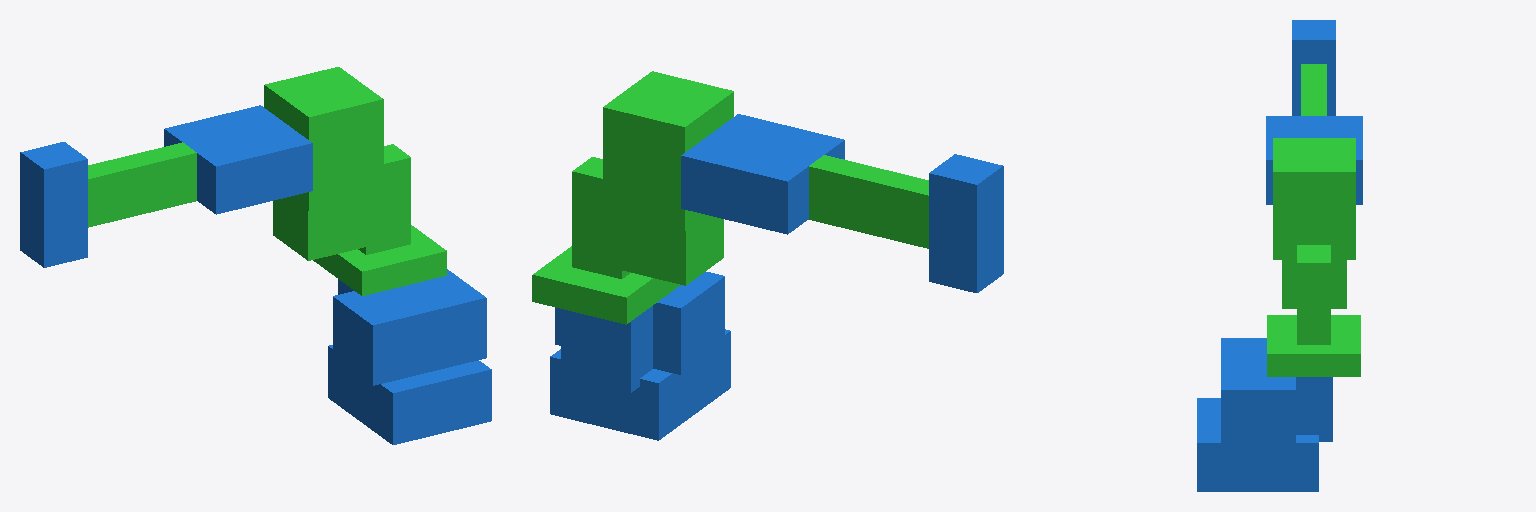
The robot description file, URDF, robot "robot":
<robot name = "robot">
    <link name="Link0">
        <inertial>
            <origin xyz="0 0 2" rpy="0 0 0"/>
            <mass value="0.21343461435300348" />
            <inertia ixx="100" ixy="0" ixz="0" iyy="100" iyz="0" izz="100" />
        </inertial>
        <visual>
            <origin xyz="0 0 2" rpy="0 0 0"/>
            <geometry>
                <box size="0.47286389225356085 0.4443950205047229 1.0156861187707538" />
            </geometry>
            <material name="No Sensor">
                <color rgba="0.184 0.553 0.933 1.0"/>
            </material>
        </visual>
        <collision>
            <origin xyz="0 0 2" rpy="0 0 0"/>
            <geometry>
                <box size="0.47286389225356085 0.4443950205047229 1.0156861187707538" />
            </geometry>
        </collision>
    </link>
    <joint name="Link0_Link1" type="revolute">
       <parent link="Link0"/>
       <child  link="Link1"/>
       <origin rpy="0 0 0" xyz="0.23643194612678042 0 2" />
       <axis xyz="1 0 0"/>
       <limit effort="0.0" lower="-3.14159" upper="3.14159" velocity="0.0"/>
    </joint>
    <link name="Link1">
        <inertial>
            <origin xyz="0.6143469094875227 0 0" rpy="0 0 0"/>
            <mass value="0.1630009619324722" />
            <inertia ixx="100" ixy="0" ixz="0" iyy="100" iyz="0" izz="100" />
        </inertial>
        <visual>
            <origin xyz="0.6143469094875227 0 0" rpy="0 0 0"/>
            <geometry>
                <box size="1.2286938189750454 0.2659099615925625 0.49889814198257976" />
            </geometry>
            <material name="Sensor">
                <color rgba="0.239 0.875 0.282 1.0"/>
            </material>
        </visual>
        <collision>
            <origin xyz="0.6143469094875227 0 0" rpy="0 0 0"/>
            <geometry>
                <box size="1.2286938189750454 0.2659099615925625 0.49889814198257976" />
            </geometry>
        </collision>
    </link>
    <joint name="Link1_Link2" type="revolute">
       <parent link="Link1"/>
       <child  link="Link2"/>
       <origin rpy="0 0 0" xyz="1.2286938189750454 0.0 0.0" />
       <axis xyz="0 1 0"/>
       <limit effort="0.0" lower="-3.14159" upper="3.14159" velocity="0.0"/>
    </joint>
    <link name="Link2">
        <inertial>
            <origin xyz="0.521156435885374 0.0 0.0" rpy="0 0 0"/>
            <mass value="0.5010257923422422" />
            <inertia ixx="100" ixy="0" ixz="0" iyy="100" iyz="0" izz="100" />
        </inertial>
        <visual>
            <origin xyz="0.521156435885374 0.0 0.0" rpy="0 0 0"/>
            <geometry>
                <box size="1.042312871770748 0.9691652977533548 0.4959799577394348" />
            </geometry>
            <material name="No Sensor">
                <color rgba="0.184 0.553 0.933 1.0"/>
            </material>
        </visual>
        <collision>
            <origin xyz="0.521156435885374 0.0 0.0" rpy="0 0 0"/>
            <geometry>
                <box size="1.042312871770748 0.9691652977533548 0.4959799577394348" />
            </geometry>
        </collision>
    </link>
    <joint name="Link2_Link3" type="revolute">
       <parent link="Link2"/>
       <child  link="Link3"/>
       <origin rpy="0 0 0" xyz="1.042312871770748 0.0 0.0" />
       <axis xyz="0 1 0"/>
       <limit effort="0.0" lower="-3.14159" upper="3.14159" velocity="0.0"/>
    </joint>
    <link name="Link3">
        <inertial>
            <origin xyz="0.40244619053792263 0.0 0.0" rpy="0 0 0"/>
            <mass value="0.6533109446732146" />
            <inertia ixx="100" ixy="0" ixz="0" iyy="100" iyz="0" izz="100" />
        </inertial>
        <visual>
            <origin xyz="0.40244619053792263 0.0 0.0" rpy="0 0 0"/>
            <geometry>
                <box size="0.8048923810758453 0.8355857940990207 0.9713842766472296" />
            </geometry>
            <material name="Sensor">
                <color rgba="0.239 0.875 0.282 1.0"/>
            </material>
        </visual>
        <collision>
            <origin xyz="0.40244619053792263 0.0 0.0" rpy="0 0 0"/>
            <geometry>
                <box size="0.8048923810758453 0.8355857940990207 0.9713842766472296" />
            </geometry>
        </collision>
    </link>
    <joint name="Link3_Link4" type="revolute">
       <parent link="Link3"/>
       <child  link="Link4"/>
       <origin rpy="0 0 0" xyz="0.40244619053792263 0.0 -0.4856921383236148" />
       <axis xyz="0 0 1"/>
       <limit effort="0.0" lower="-3.14159" upper="3.14159" velocity="0.0"/>
    </joint>
    <link name="Link4">
        <inertial>
            <origin xyz="0.0 0.0 -0.2790047354104448" rpy="0 0 0"/>
            <mass value="0.2607846877066183" />
            <inertia ixx="100" ixy="0" ixz="0" iyy="100" iyz="0" izz="100" />
        </inertial>
        <visual>
            <origin xyz="0.0 0.0 -0.2790047354104448" rpy="0 0 0"/>
            <geometry>
                <box size="0.7136737112127011 0.6548484715227227 0.5580094708208896" />
            </geometry>
            <material name="Sensor">
                <color rgba="0.239 0.875 0.282 1.0"/>
            </material>
        </visual>
        <collision>
            <origin xyz="0.0 0.0 -0.2790047354104448" rpy="0 0 0"/>
            <geometry>
                <box size="0.7136737112127011 0.6548484715227227 0.5580094708208896" />
            </geometry>
        </collision>
    </link>
    <joint name="Link4_Link5" type="revolute">
       <parent link="Link4"/>
       <child  link="Link5"/>
       <origin rpy="0 0 0" xyz="0.35683685560635053 0.0 -0.2790047354104448" />
       <axis xyz="1 0 0"/>
       <limit effort="0.0" lower="-3.14159" upper="3.14159" velocity="0.0"/>
    </joint>
    <link name="Link5">
        <inertial>
            <origin xyz="0.24415445420341136 0.0 0.0" rpy="0 0 0"/>
            <mass value="0.14983420393001523" />
            <inertia ixx="100" ixy="0" ixz="0" iyy="100" iyz="0" izz="100" />
        </inertial>
        <visual>
            <origin xyz="0.24415445420341136 0.0 0.0" rpy="0 0 0"/>
            <geometry>
                <box size="0.48830890840682273 0.34250335815060395 0.8958833874176423" />
            </geometry>
            <material name="Sensor">
                <color rgba="0.239 0.875 0.282 1.0"/>
            </material>
        </visual>
        <collision>
            <origin xyz="0.24415445420341136 0.0 0.0" rpy="0 0 0"/>
            <geometry>
                <box size="0.48830890840682273 0.34250335815060395 0.8958833874176423" />
            </geometry>
        </collision>
    </link>
    <joint name="Link5_Link6" type="revolute">
       <parent link="Link5"/>
       <child  link="Link6"/>
       <origin rpy="0 0 0" xyz="0.24415445420341136 0.0 -0.44794169370882114" />
       <axis xyz="0 0 1"/>
       <limit effort="0.0" lower="-3.14159" upper="3.14159" velocity="0.0"/>
    </joint>
    <link name="Link6">
        <inertial>
            <origin xyz="0.0 0.0 -0.12657286023218622" rpy="0 0 0"/>
            <mass value="0.21819980400643638" />
            <inertia ixx="100" ixy="0" ixz="0" iyy="100" iyz="0" izz="100" />
        </inertial>
        <visual>
            <origin xyz="0.0 0.0 -0.12657286023218622" rpy="0 0 0"/>
            <geometry>
                <box size="0.9195704485402362 0.9373434739168471 0.25314572046437245" />
            </geometry>
            <material name="Sensor">
                <color rgba="0.239 0.875 0.282 1.0"/>
            </material>
        </visual>
        <collision>
            <origin xyz="0.0 0.0 -0.12657286023218622" rpy="0 0 0"/>
            <geometry>
                <box size="0.9195704485402362 0.9373434739168471 0.25314572046437245" />
            </geometry>
        </collision>
    </link>
    <joint name="Link6_Link7" type="revolute">
       <parent link="Link6"/>
       <child  link="Link7"/>
       <origin rpy="0 0 0" xyz="0.0 0.0 -0.25314572046437245" />
       <axis xyz="1 0 0"/>
       <limit effort="0.0" lower="-3.14159" upper="3.14159" velocity="0.0"/>
    </joint>
    <link name="Link7">
        <inertial>
            <origin xyz="0.0 0.0 -0.3883046678531537" rpy="0 0 0"/>
            <mass value="0.19913116331222577" />
            <inertia ixx="100" ixy="0" ixz="0" iyy="100" iyz="0" izz="100" />
        </inertial>
        <visual>
            <origin xyz="0.0 0.0 -0.3883046678531537" rpy="0 0 0"/>
            <geometry>
                <box size="0.6882530325209861 0.37255336491136315 0.7766093357063074" />
            </geometry>
            <material name="No Sensor">
                <color rgba="0.184 0.553 0.933 1.0"/>
            </material>
        </visual>
        <collision>
            <origin xyz="0.0 0.0 -0.3883046678531537" rpy="0 0 0"/>
            <geometry>
                <box size="0.6882530325209861 0.37255336491136315 0.7766093357063074" />
            </geometry>
        </collision>
    </link>
    <joint name="Link7_Link8" type="revolute">
       <parent link="Link7"/>
       <child  link="Link8"/>
       <origin rpy="0 0 0" xyz="0.0 -0.18627668245568157 -0.3883046678531537" />
       <axis xyz="0 0 1"/>
       <limit effort="0.0" lower="-3.14159" upper="3.14159" velocity="0.0"/>
    </joint>
    <link name="Link8">
        <inertial>
            <origin xyz="0.0 -0.37463850548166905 0.0" rpy="0 0 0"/>
            <mass value="0.5755622525655443" />
            <inertia ixx="100" ixy="0" ixz="0" iyy="100" iyz="0" izz="100" />
        </inertial>
        <visual>
            <origin xyz="0.0 -0.37463850548166905 0.0" rpy="0 0 0"/>
            <geometry>
                <box size="1.2297396209018743 0.7492770109633381 0.6246499792735207" />
            </geometry>
            <material name="No Sensor">
                <color rgba="0.184 0.553 0.933 1.0"/>
            </material>
        </visual>
        <collision>
            <origin xyz="0.0 -0.37463850548166905 0.0" rpy="0 0 0"/>
            <geometry>
                <box size="1.2297396209018743 0.7492770109633381 0.6246499792735207" />
            </geometry>
        </collision>
    </link>
    <joint name="Link8_Link9" type="revolute">
       <parent link="Link8"/>
       <child  link="Link9"/>
       <origin rpy="0 0 0" xyz="0.0 -0.37463850548166905 -0.31232498963676036" />
       <axis xyz="0 1 0"/>
       <limit effort="0.0" lower="-3.14159" upper="3.14159" velocity="0.0"/>
    </joint>
    <link name="Link9">
        <inertial>
            <origin xyz="0.0 0.0 -0.2685616887643977" rpy="0 0 0"/>
            <mass value="0.6960965402739713" />
            <inertia ixx="100" ixy="0" ixz="0" iyy="100" iyz="0" izz="100" />
        </inertial>
        <visual>
            <origin xyz="0.0 0.0 -0.2685616887643977" rpy="0 0 0"/>
            <geometry>
                <box size="1.0638399923945956 1.2182014382446995 0.5371233775287954" />
            </geometry>
            <material name="No Sensor">
                <color rgba="0.184 0.553 0.933 1.0"/>
            </material>
        </visual>
        <collision>
            <origin xyz="0.0 0.0 -0.2685616887643977" rpy="0 0 0"/>
            <geometry>
                <box size="1.0638399923945956 1.2182014382446995 0.5371233775287954" />
            </geometry>
        </collision>
    </link>
</robot>

--- What the picture shows (computed from the rendered views, not written in the file) ---
Views: 3 orthographic renders of the robot side by side, from view 1: azimuth 30°, elevation 25°; view 2: azimuth 150°, elevation 25°; view 3: azimuth 270°, elevation 25°.
Robot: robot — 10 links, 9 joints (9 revolute); root link Link0; default pose: all joints at 0.
Visible links, largest first — view 1: Link8, Link3, Link2, Link9, Link0, Link1, Link4, Link6, Link5; view 2: Link3, Link2, Link0, Link9, Link1, Link7, Link8, Link4, Link6, Link5; view 3: Link3, Link9, Link8, Link6, Link5, Link2, Link0, Link7, Link4, Link1.
Link boxes in pixels (x1,y1,x2,y2): Link8: (333, 269, 486, 385); Link3: (264, 67, 383, 210); Link2: (164, 105, 312, 214); Link9: (328, 345, 491, 444); Link0: (20, 142, 87, 267); Link1: (88, 142, 196, 227); Link4: (273, 196, 374, 260); Link6: (313, 225, 446, 295); Link5: (358, 144, 410, 254); Link3: (603, 71, 733, 230); Link2: (681, 114, 844, 234); Link0: (929, 154, 1003, 292); Link9: (550, 329, 730, 440); Link1: (809, 155, 928, 248); Link7: (561, 306, 652, 392); Link8: (555, 272, 724, 374); Link4: (613, 214, 723, 285); Link6: (532, 246, 679, 324); Link5: (572, 157, 630, 278); Link3: (1273, 138, 1355, 259); Link9: (1197, 398, 1318, 491); Link8: (1221, 338, 1295, 445); Link6: (1267, 315, 1360, 376); Link5: (1297, 245, 1330, 344); Link2: (1266, 116, 1362, 204); Link0: (1292, 20, 1335, 115); Link7: (1296, 377, 1332, 441); Link4: (1282, 260, 1346, 308); Link1: (1301, 64, 1326, 115).
Size in the robot's own frame: 4.36 by 1.65 by 3.21 metres.
Geometry: primitives only (box / cylinder / sphere), no mesh files.